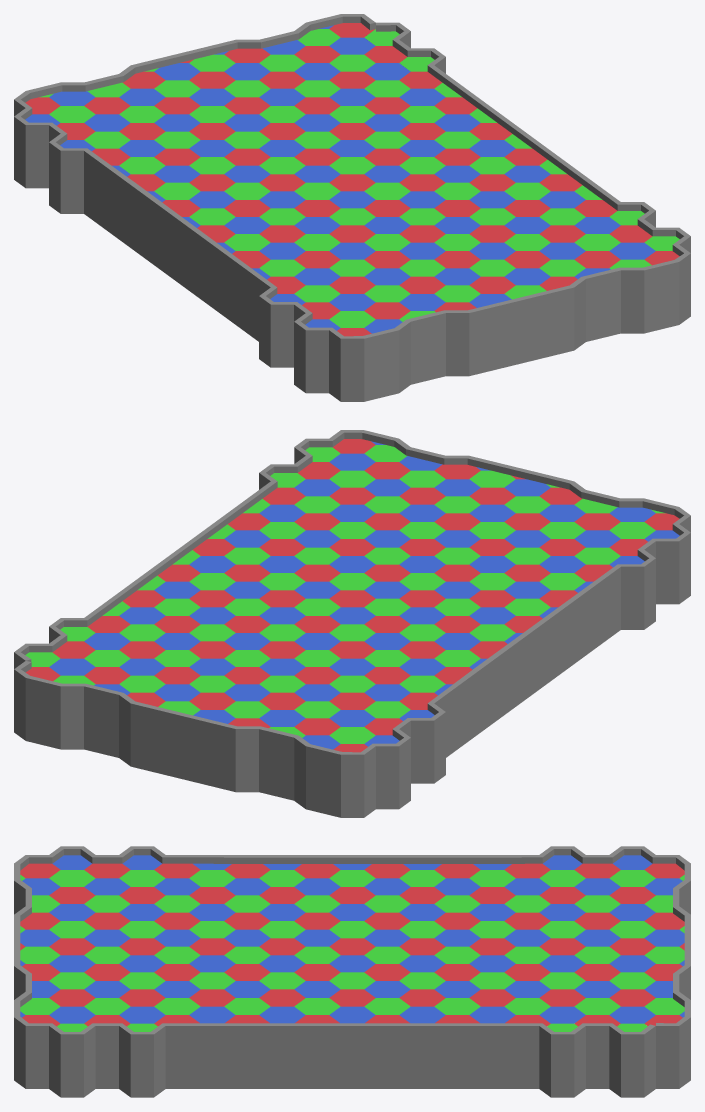
File: platform_1.fbx
3 views of the same model, one above another, from view 1: azimuth 30°, elevation 25°; view 2: azimuth 150°, elevation 25°; view 3: azimuth 270°, elevation 25° (orthographic).
Parts seen in each view (by area): view 1: hexagon_0.003; view 2: hexagon_0.003; view 3: hexagon_0.003.
Part boxes in pixels (x1=…): hexagon_0.003: x1=14, y1=14, x2=690, y2=401; hexagon_0.003: x1=14, y1=430, x2=690, y2=817; hexagon_0.003: x1=14, y1=846, x2=690, y2=1097.
Bounding box in the file's own units: 1906 × 299 × 2900.
